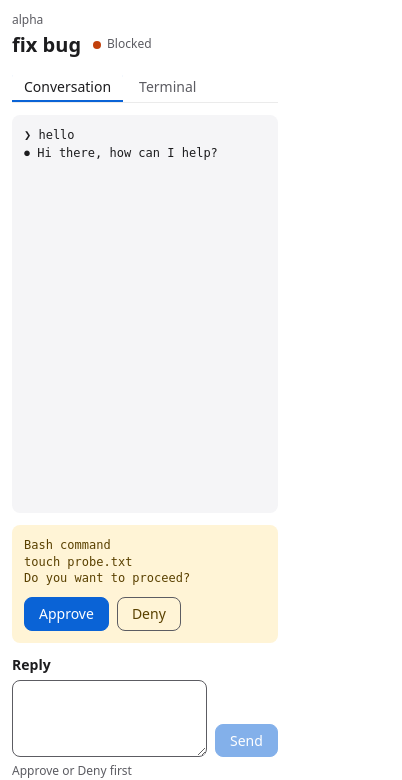
Scenario: AgentPanel › a changed prompt is reported and re-read
Click the button "Approve" at (66, 614), box [24,597,109,631]
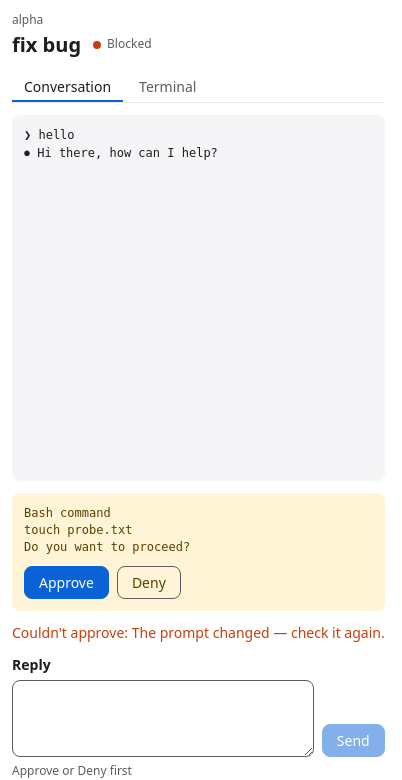
Check: the button "Approve" is enabled, box [24,566,109,599]
Check: the message shows "The prompt changed — check it again.", box [12,623,385,642]
